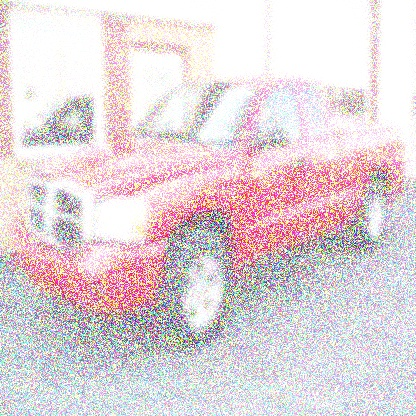Vehicle: (6, 71, 413, 356)
